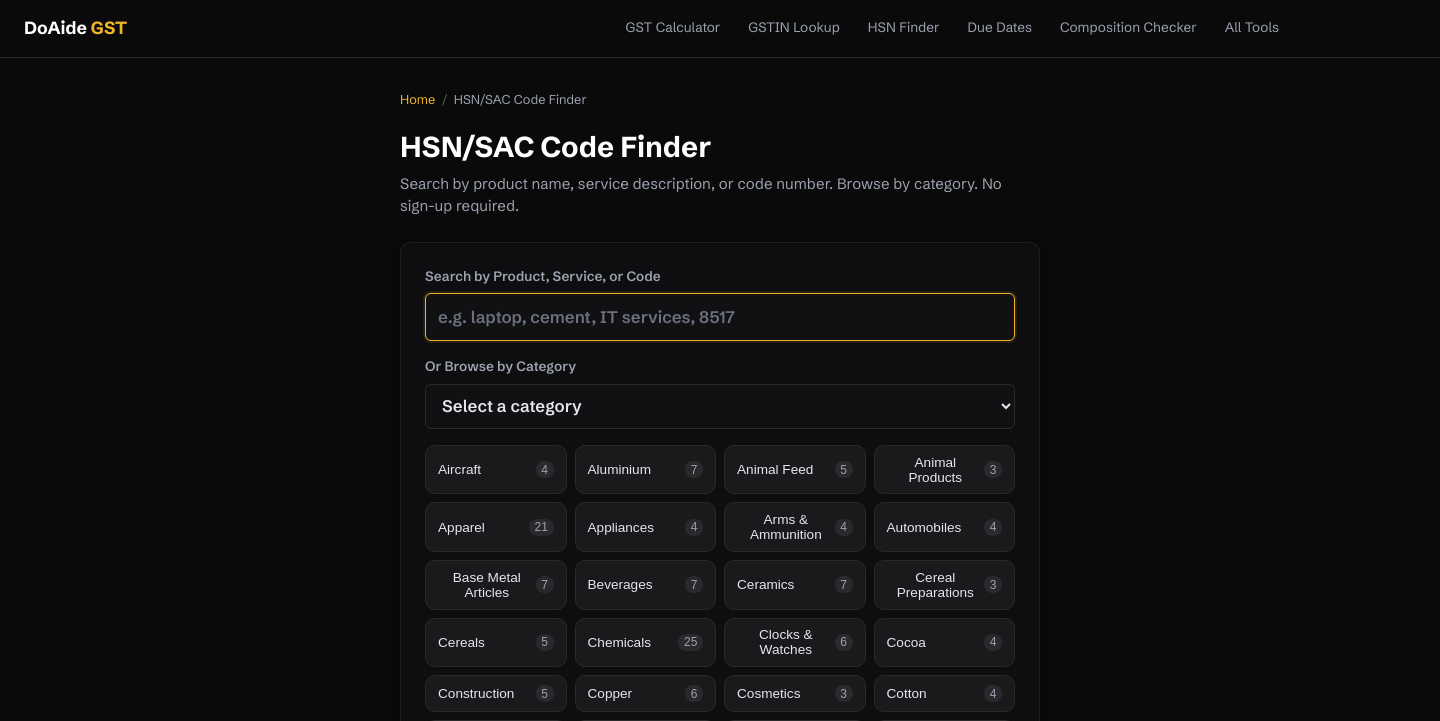
Scenario: HsnSacFinderPage › shows no results message for bad search
The width and height of the screenshot is (1440, 721).
Type "xyznonexistent" into the field with placeholder "e.g. laptop, cement, IT services, 8517" at (720,317), box [425,293,1015,341]
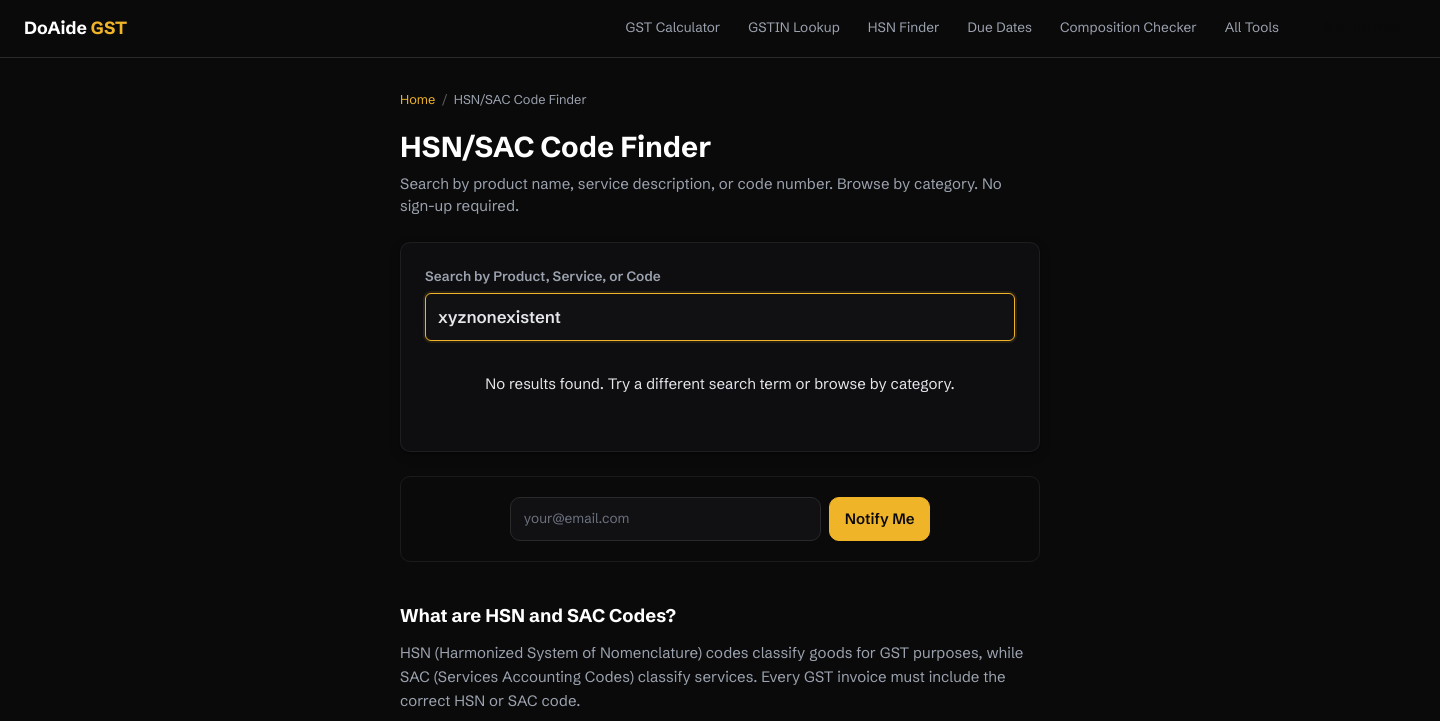
Result: the text "No results found" is shown at [485,374,955,393]
